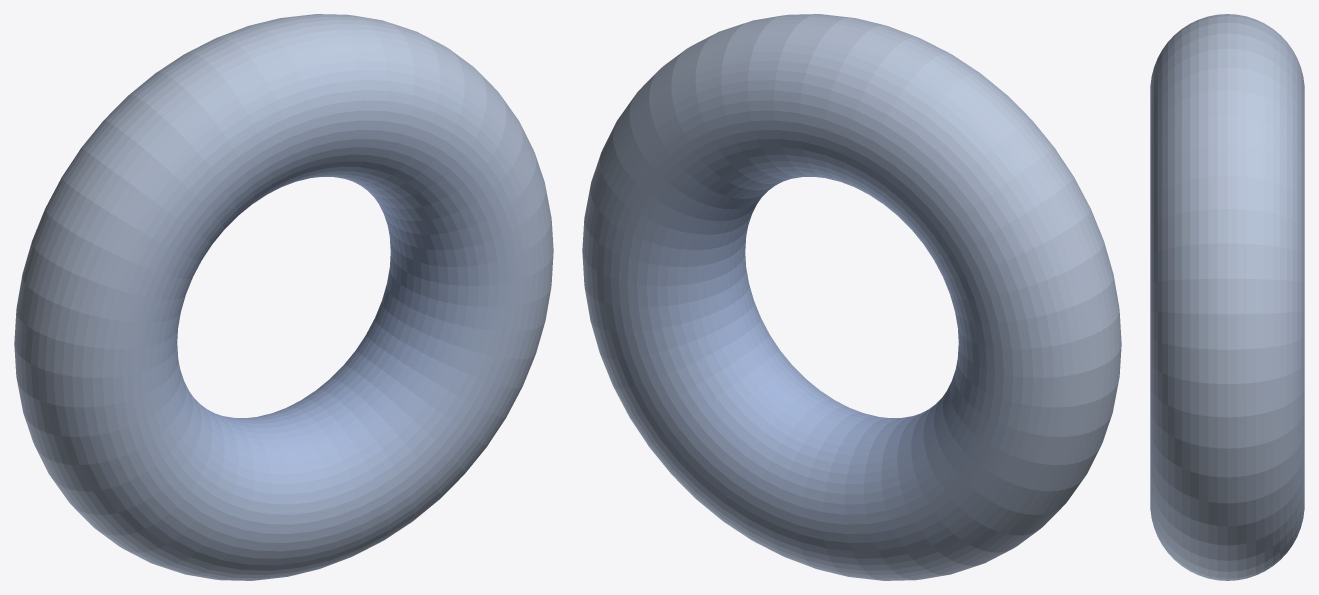
3 renders of one model, left to right at view 1: azimuth 30°, elevation 25°; view 2: azimuth 150°, elevation 25°; view 3: azimuth 270°, elevation 25°, orthographic. The views are drawn at different scales.
Visible parts, largest first — view 1: world; view 2: world; view 3: world.
Part boxes in pixels (x1,y1,x2,y2): world: (14,14,553,580); world: (582,14,1121,580); world: (1150,14,1304,580).
Size of the model in its own units: 22 by 21.96 by 5.99.
